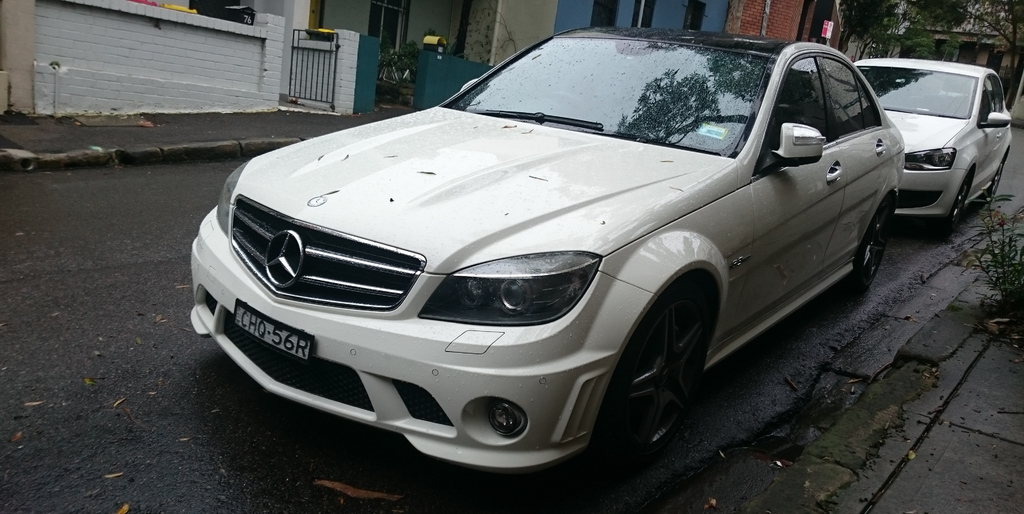Car: (188, 25, 906, 475), (852, 56, 1012, 230)
